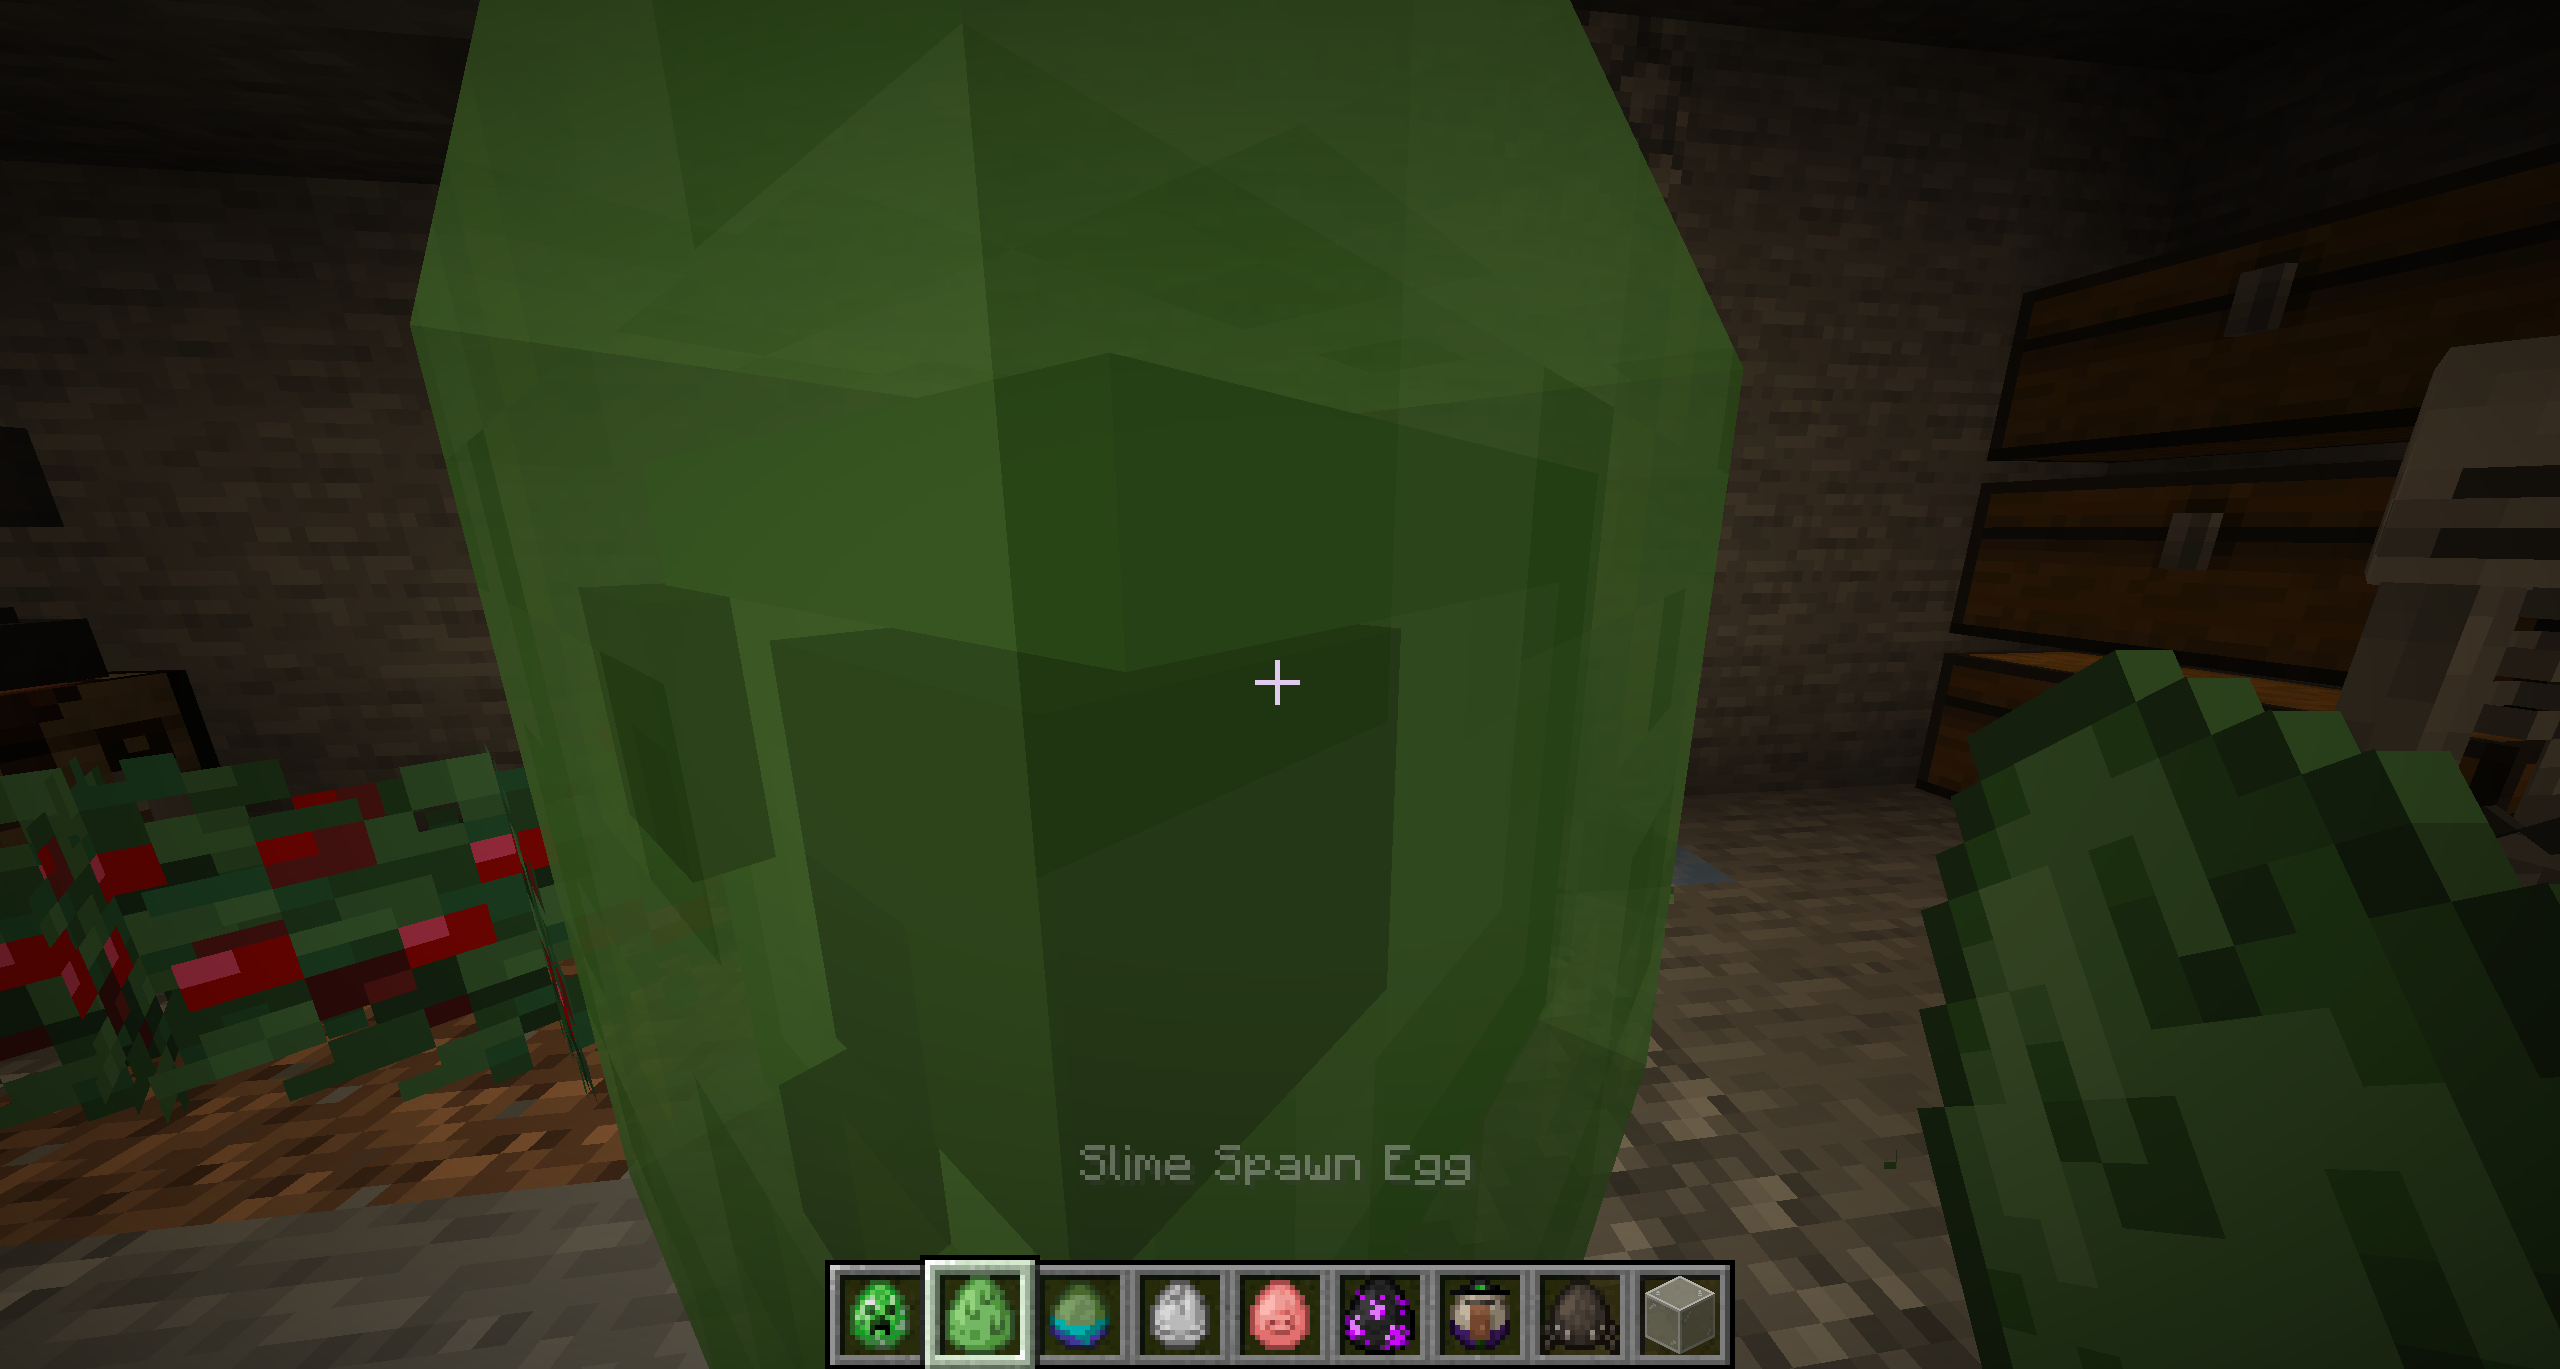slimes: (388, 5, 1746, 1315)
squelettes: (2359, 325, 2560, 905)
